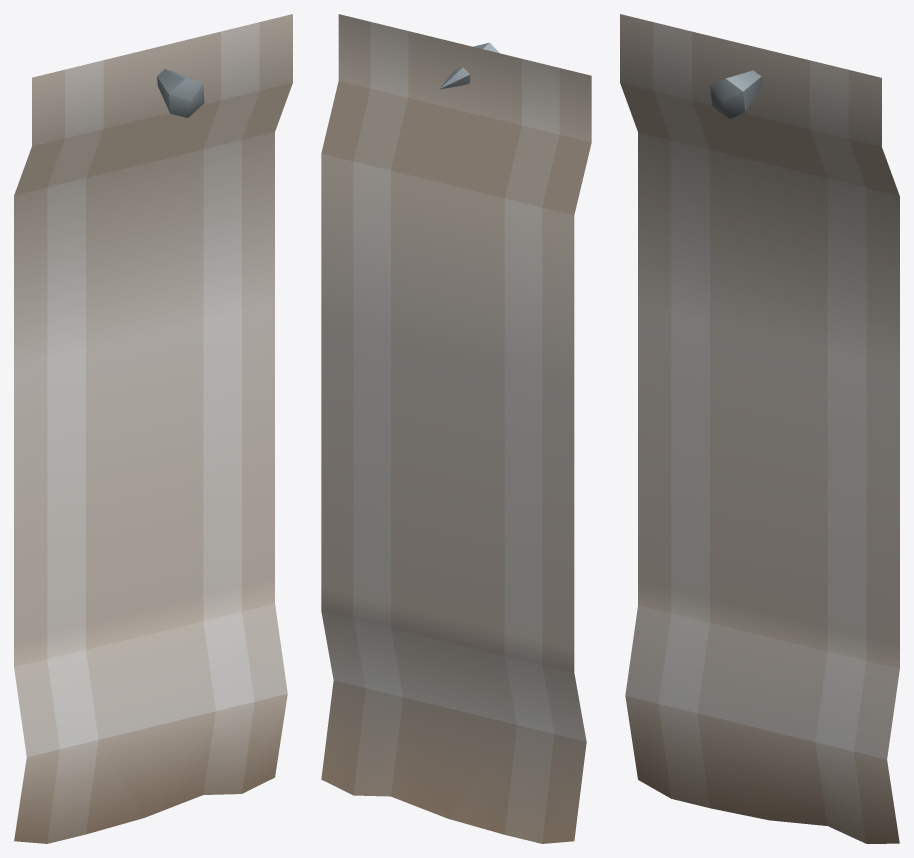
Rendered from banner_thin_white.gltf.
3 renders of one model, left to right at view 1: azimuth 30°, elevation 25°; view 2: azimuth 150°, elevation 25°; view 3: azimuth 330°, elevation 25°, orthographic. The views are drawn at different scales.
Visible parts, largest first — view 1: banner_thin_white; view 2: banner_thin_white; view 3: banner_thin_white.
Boxes of the visible parts, box(x1,y1,x2,y2) form: banner_thin_white: box(14, 14, 292, 843); banner_thin_white: box(321, 14, 591, 843); banner_thin_white: box(620, 14, 899, 843).
Bounding box in the file's own units: 1.1 × 3.17 × 0.3623.
1 material, 1 textured.
